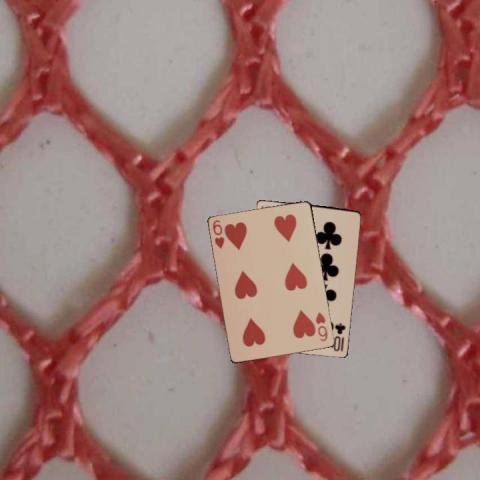10c: (330, 319, 347, 353)
6h: (313, 308, 329, 342), (210, 217, 226, 250)
